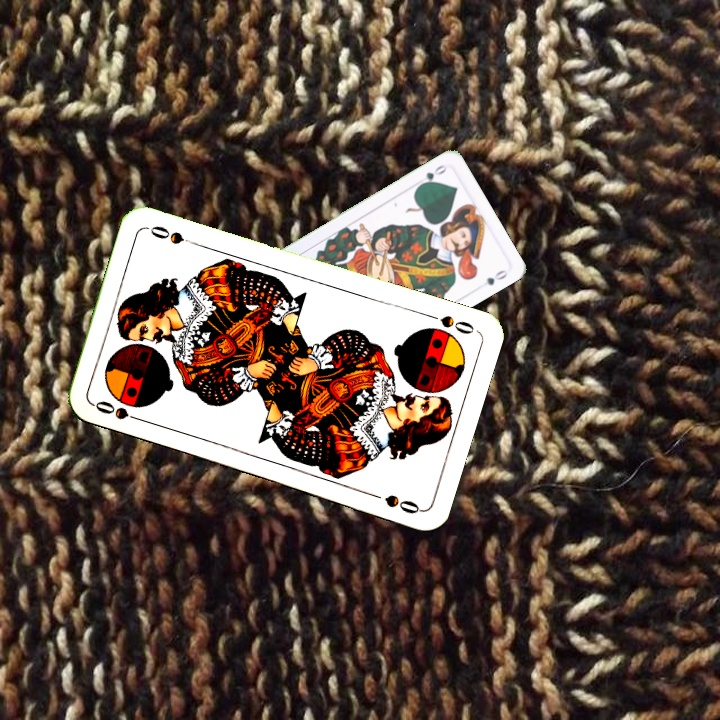GO: (414, 161, 450, 190)
SO: (89, 396, 147, 425), (421, 309, 477, 337)
